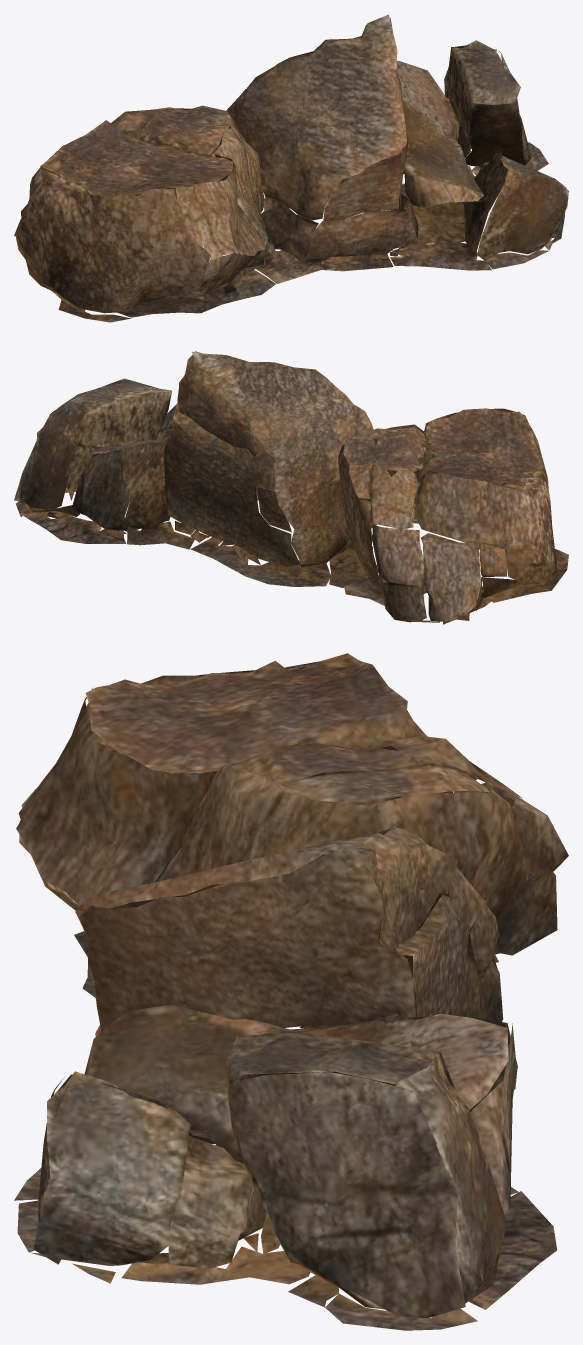
Rendered from namaqualand-boulder.glb.
3 views of the same model, one above another, from view 1: azimuth 30°, elevation 25°; view 2: azimuth 150°, elevation 25°; view 3: azimuth 270°, elevation 25° (orthographic). The views are drawn at different scales.
Parts seen in each view (by area): view 1: namaqualand-boulder; view 2: namaqualand-boulder; view 3: namaqualand-boulder.
Boxes of the visible parts, x1=… form: namaqualand-boulder: x1=14, y1=14, x2=568, y2=322; namaqualand-boulder: x1=14, y1=351, x2=568, y2=624; namaqualand-boulder: x1=14, y1=653, x2=568, y2=1330.
Bounding box in the file's own units: 1 × 0.3516 × 0.4938.
Materials: 1 (1 with a texture image).
